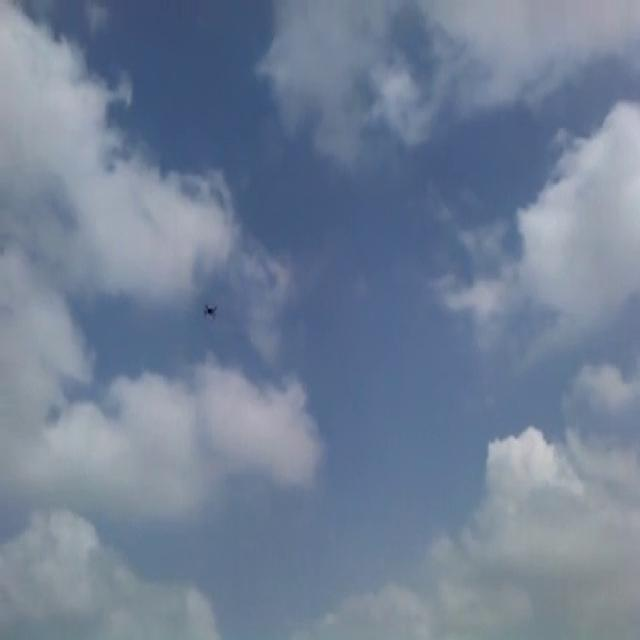drone: (200, 297, 220, 318)
